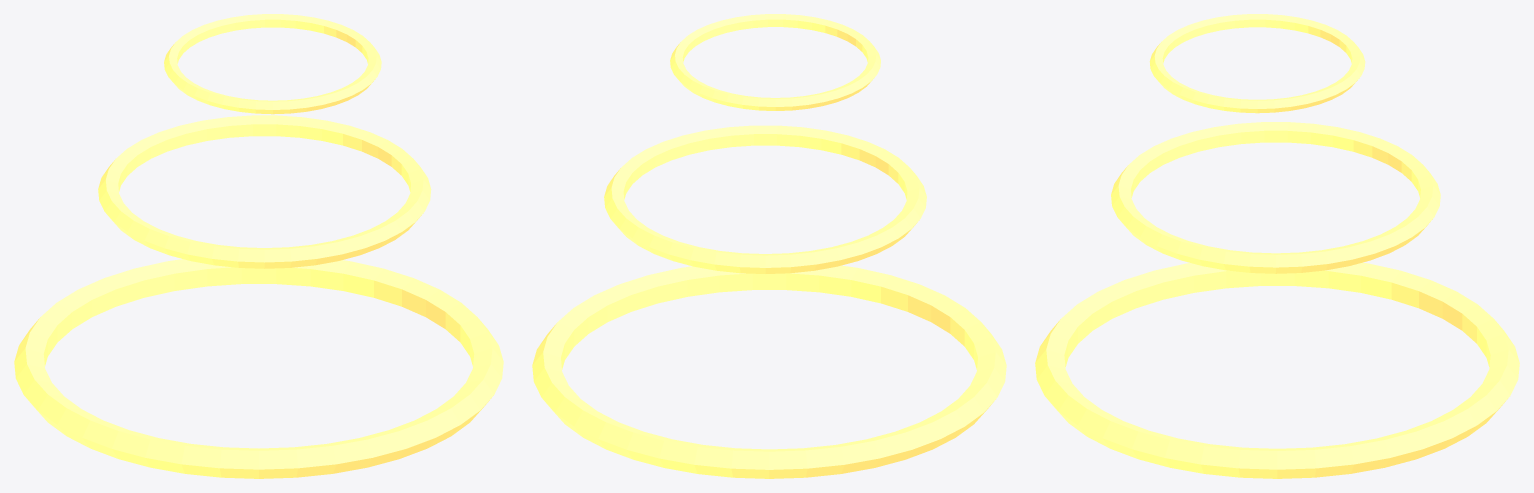
3 renders of one model, left to right at view 1: azimuth 30°, elevation 25°; view 2: azimuth 150°, elevation 25°; view 3: azimuth 270°, elevation 25°, orthographic. The views are drawn at different scales.
Visible parts, largest first — view 1: Torus, Torus001, Torus002; view 2: Torus, Torus001, Torus002; view 3: Torus, Torus001, Torus002.
Part boxes in pixels (box(x1,y1,x2,y2)): Torus: box(14, 259, 503, 478); Torus001: box(98, 115, 431, 268); Torus002: box(164, 14, 381, 114); Torus: box(532, 265, 1006, 478); Torus001: box(604, 125, 926, 273); Torus002: box(670, 14, 880, 110); Torus: box(1035, 262, 1519, 478); Torus001: box(1111, 122, 1440, 273); Torus002: box(1149, 14, 1365, 113).
Bounding box in the file's own units: 3.29 × 2.44 × 3.3.
